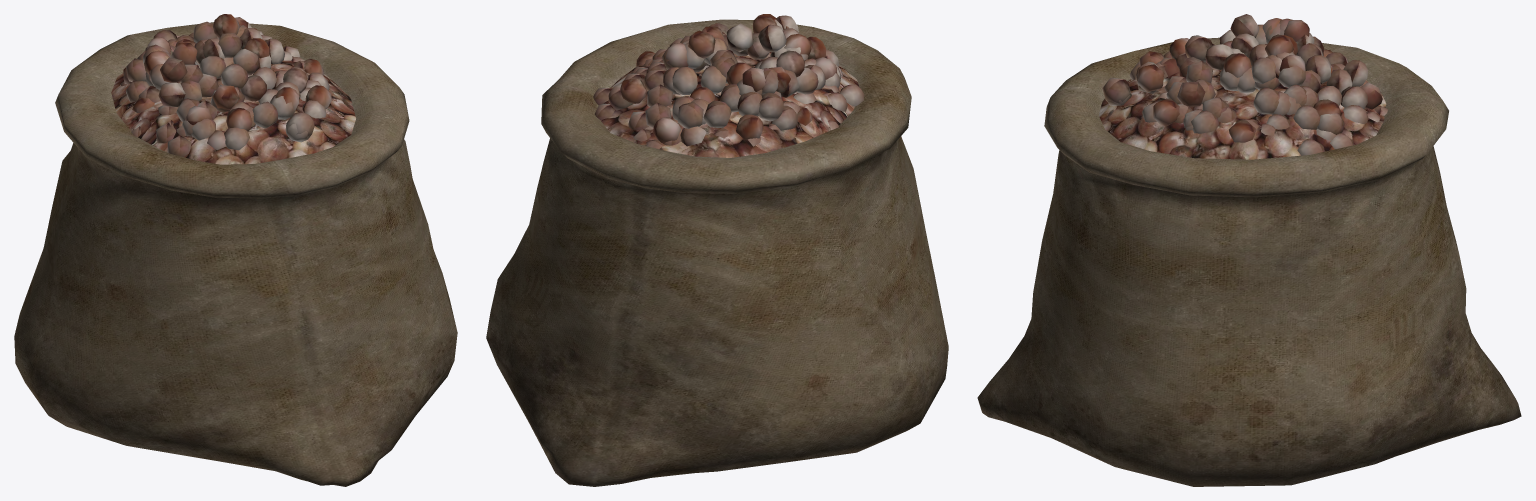
The model's file is Sack_Bag_12.glb.
3 renders of one model, left to right at view 1: azimuth 30°, elevation 25°; view 2: azimuth 150°, elevation 25°; view 3: azimuth 270°, elevation 25°, orthographic. The views are drawn at different scales.
Parts seen in each view (by area): view 1: SM_Sack_Bag_12; view 2: SM_Sack_Bag_12; view 3: SM_Sack_Bag_12.
Part boxes in pixels (<box>): SM_Sack_Bag_12: <box>14,14,457,486</box>; SM_Sack_Bag_12: <box>486,14,948,486</box>; SM_Sack_Bag_12: <box>977,14,1521,486</box>.
Bounding box in the file's own units: 0.7088 × 0.6388 × 0.8147.
Materials: 2 (2 with a texture image).
